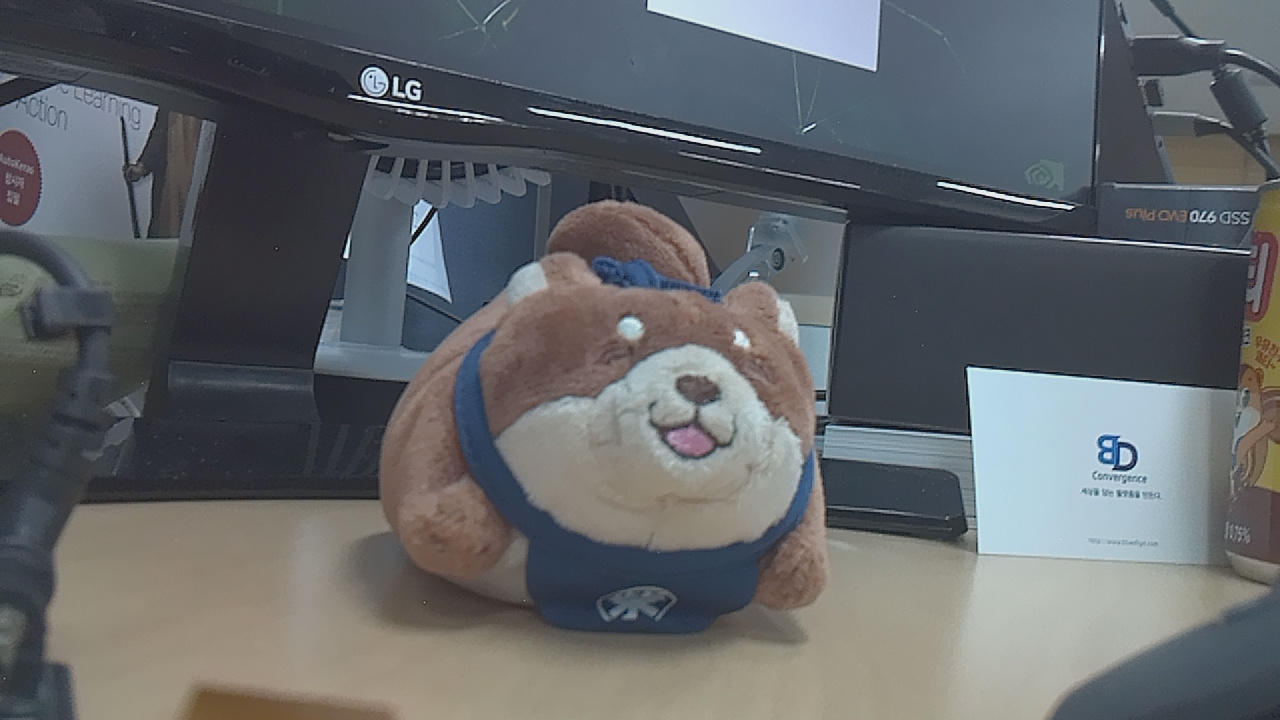cuteDog: (331, 191, 842, 629)
